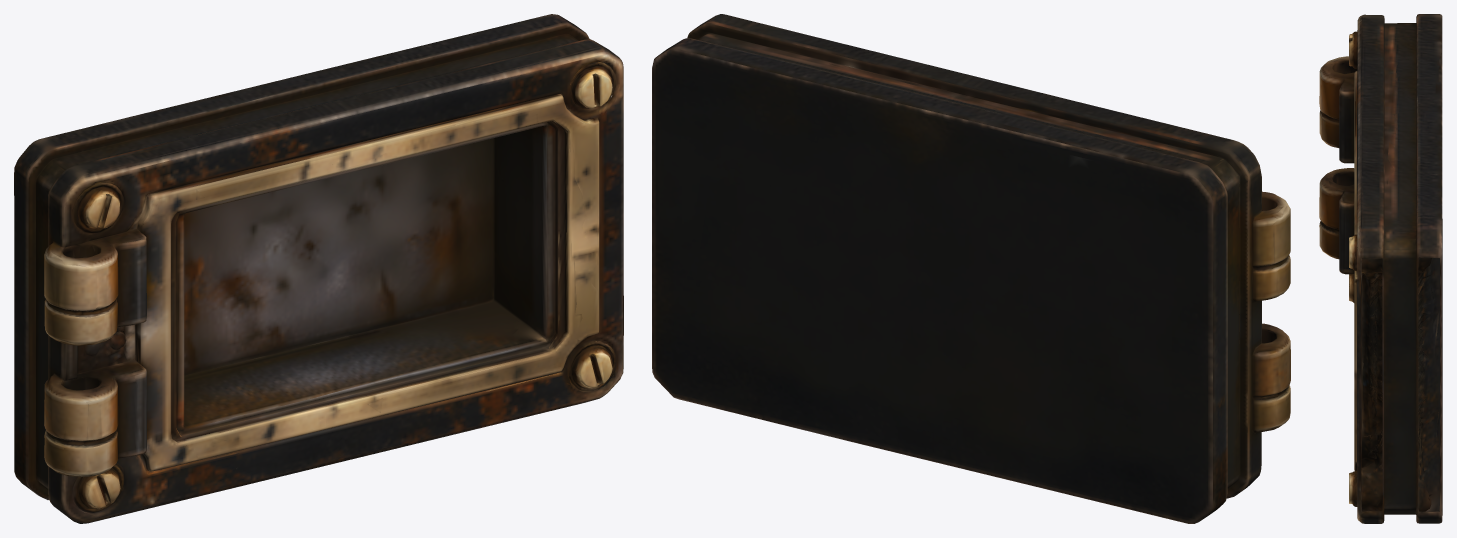
Rendered from secret_hole.glb.
The picture shows the model from 3 angles, left to right: view 1: azimuth 30°, elevation 25°; view 2: azimuth 150°, elevation 25°; view 3: azimuth 270°, elevation 25°; orthographic projection. The views are drawn at different scales.
Visible parts, largest first — view 1: Mesh_0; view 2: Mesh_0; view 3: Mesh_0.
Boxes of the visible parts, left/top/right/bottom form: Mesh_0: left=14, top=14, right=623, bottom=523; Mesh_0: left=652, top=14, right=1290, bottom=523; Mesh_0: left=1319, top=14, right=1442, bottom=523.
Size of the model in its own units: 1.05 by 0.6084 by 0.2283.
Materials: 1 (1 with a texture image).
